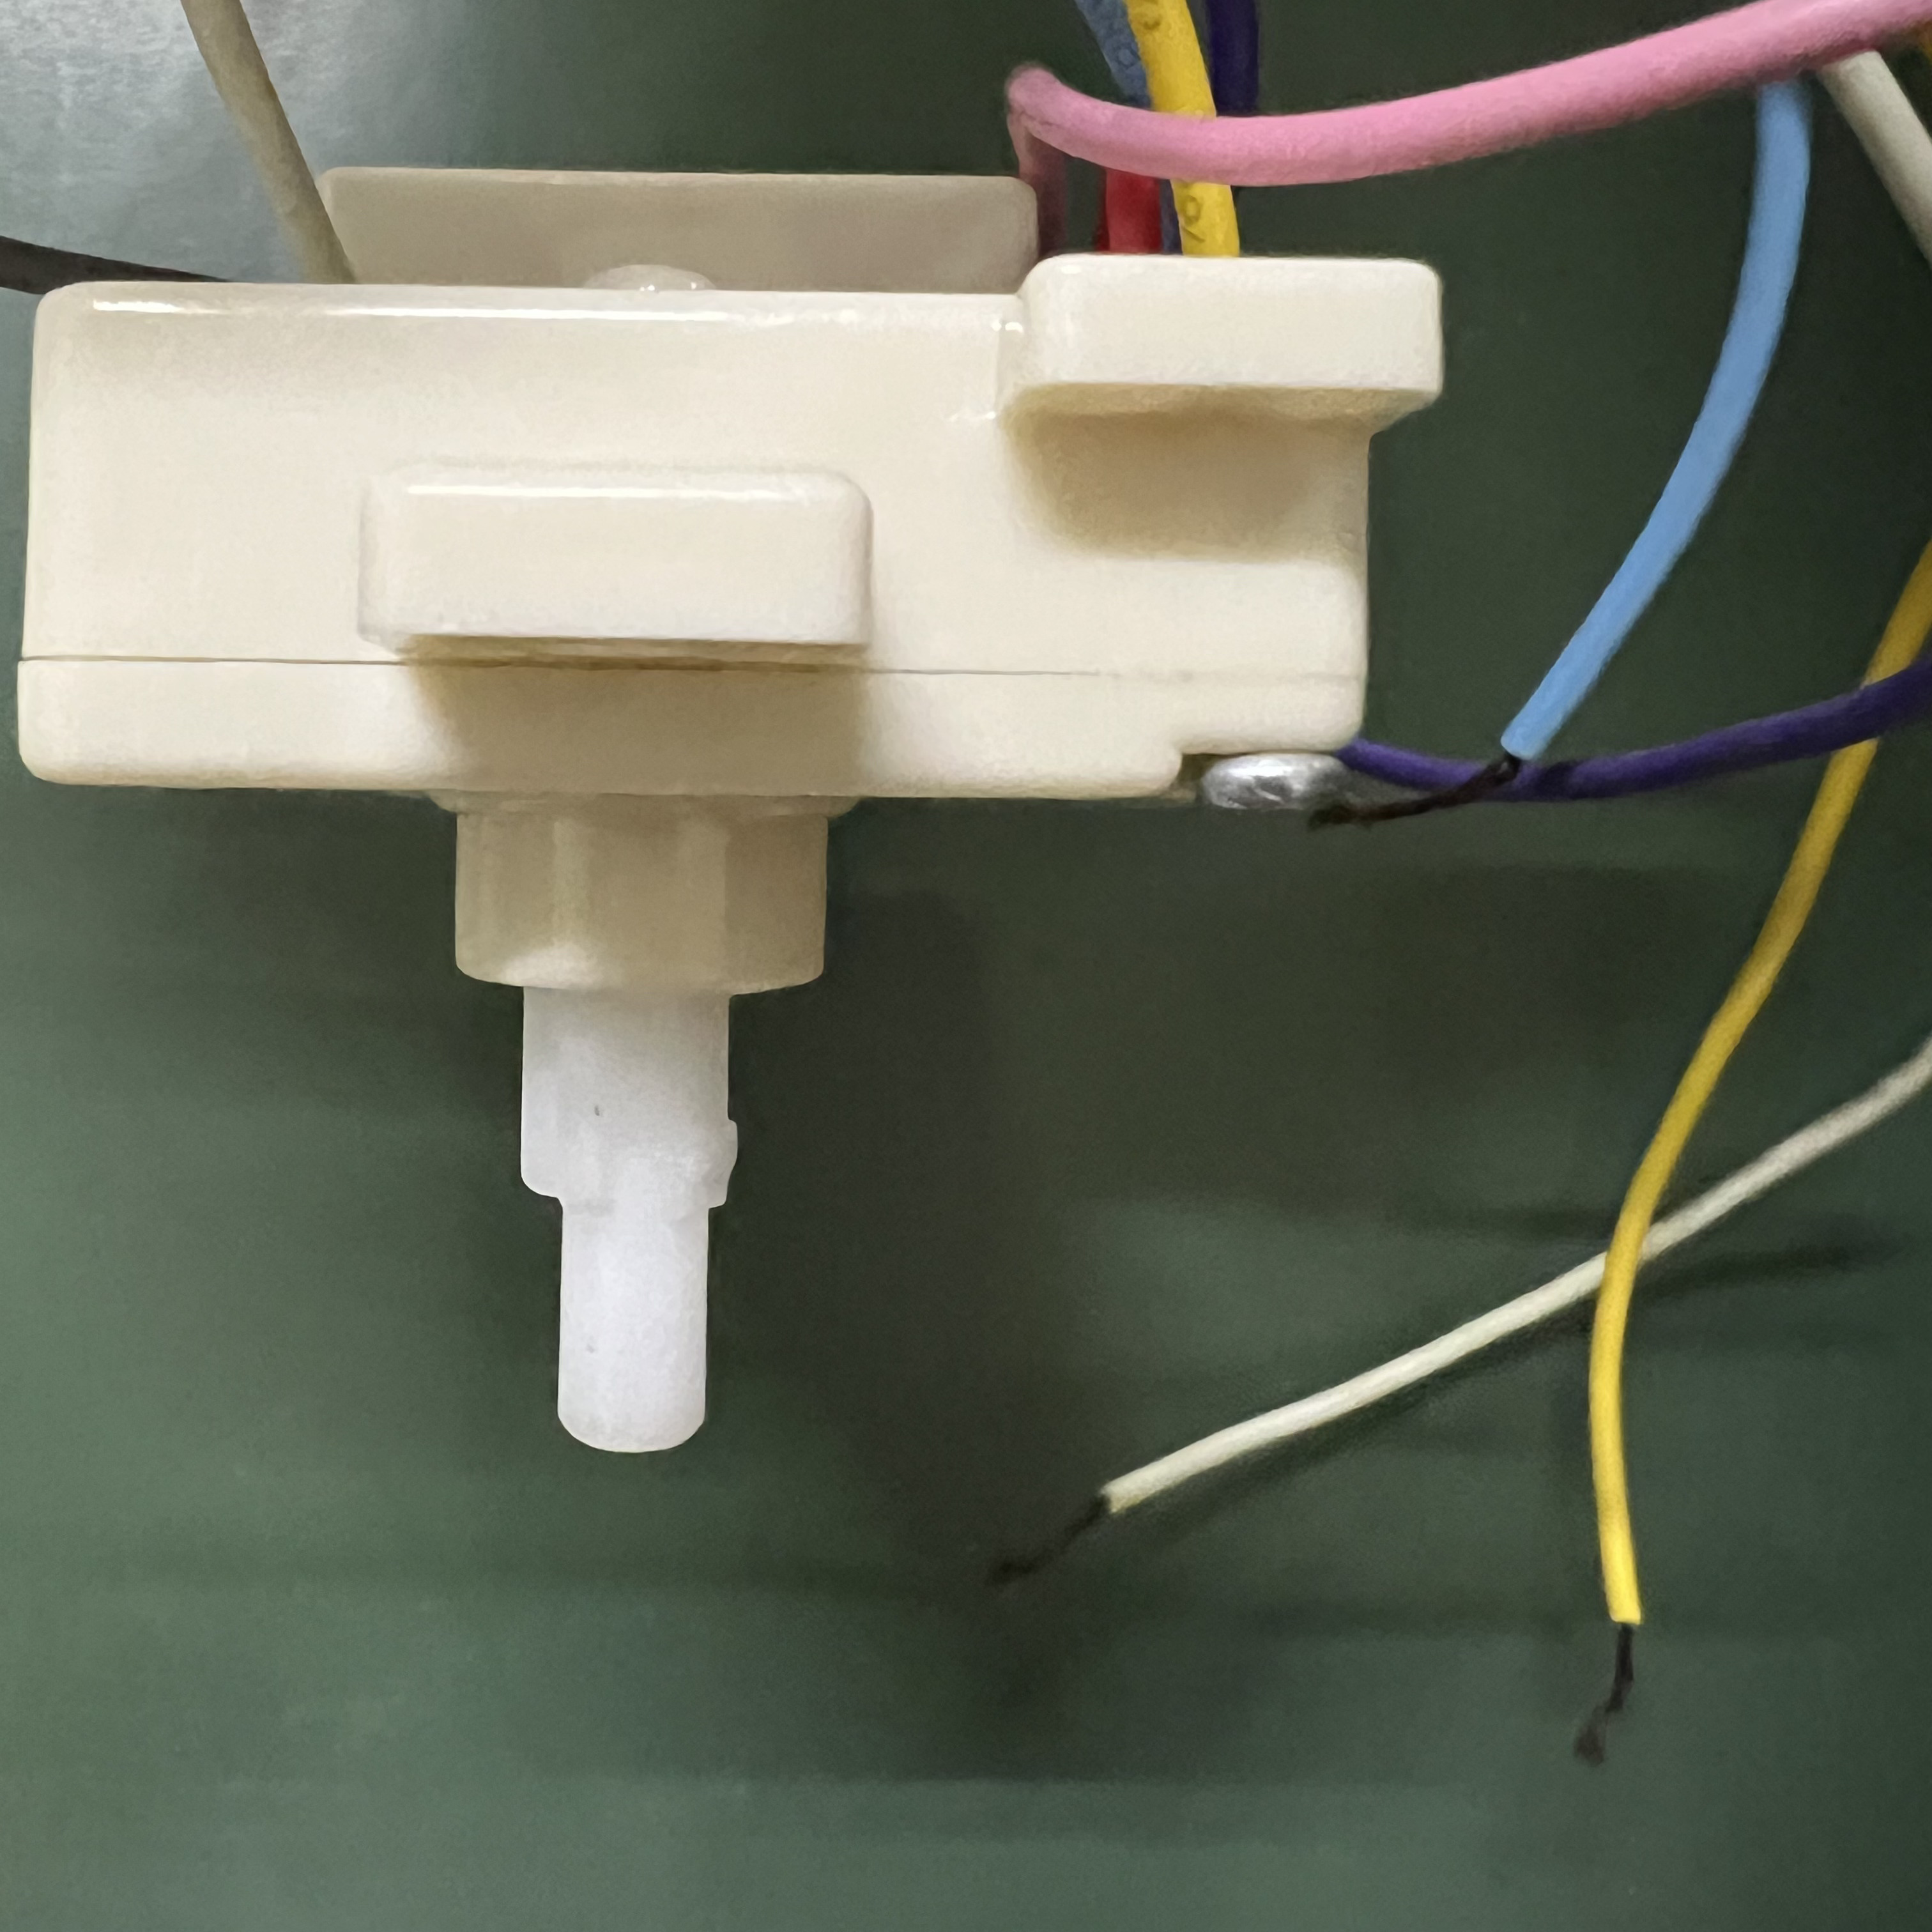rectangle_timer: (16, 119, 1430, 1484)
